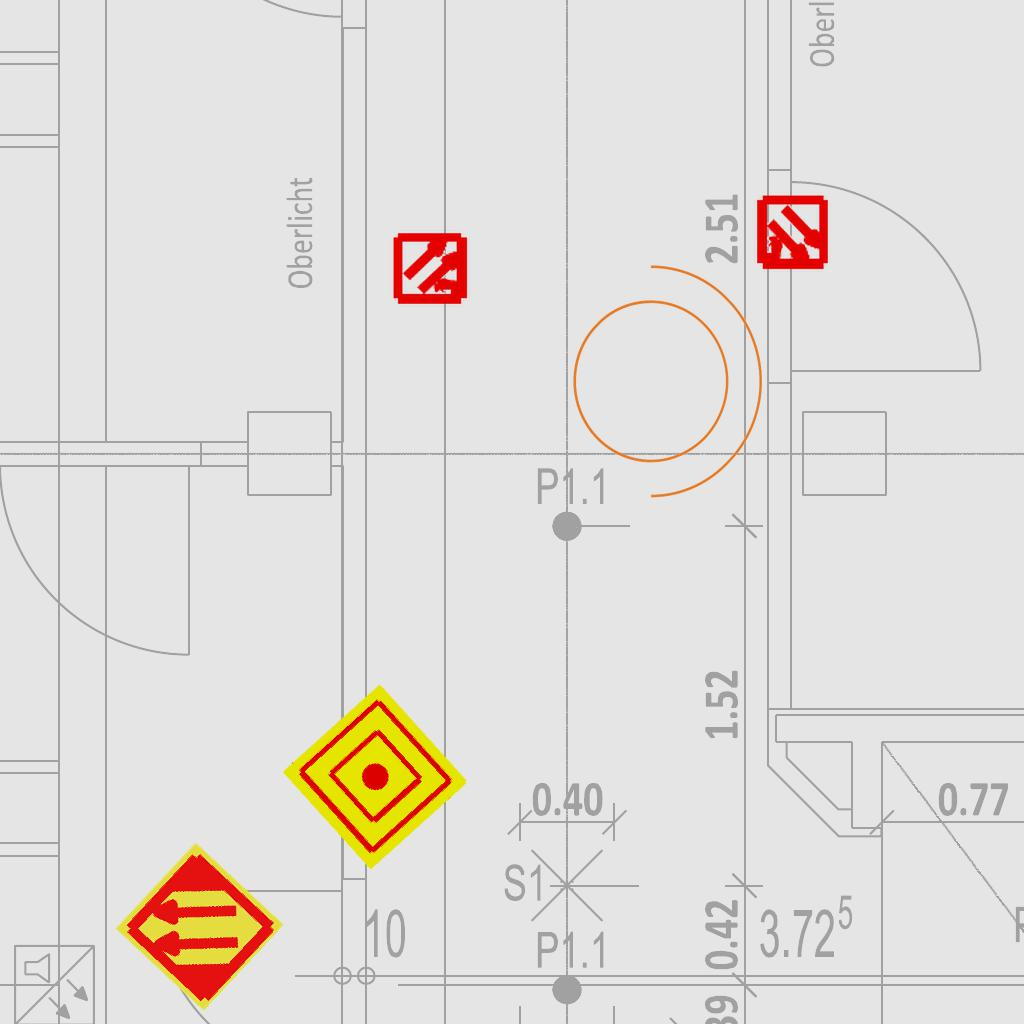ASR_Ansaugrauchmelder: (111, 838, 288, 1015)
NAM-Nichtautomatischer_Melder: (281, 683, 469, 871)
OT_Multisensormelder_(Kombination_RMO_WMD): (376, 212, 489, 325), (736, 178, 849, 291)
Scheinwerfer_fuer_Alarmbeleuchtung: (548, 243, 773, 507)
